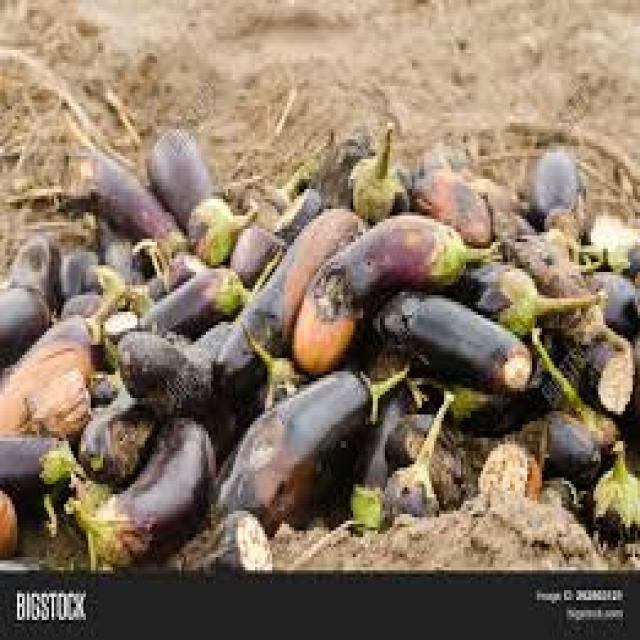organic waste: (206, 362, 407, 530), (289, 206, 493, 368), (208, 202, 363, 395), (66, 405, 214, 557), (368, 282, 532, 388), (316, 206, 500, 292), (488, 202, 601, 335), (525, 322, 618, 461), (118, 315, 218, 428), (84, 146, 186, 255), (142, 116, 226, 245), (456, 255, 598, 325), (0, 282, 115, 365), (532, 322, 630, 418), (380, 404, 478, 500), (375, 382, 444, 518), (397, 156, 493, 245), (76, 381, 157, 481), (135, 262, 240, 335), (0, 428, 76, 517), (165, 508, 268, 570), (527, 136, 586, 242), (346, 120, 412, 212), (515, 408, 598, 481), (179, 322, 262, 394), (429, 371, 525, 428), (591, 438, 638, 547), (20, 368, 88, 434), (186, 192, 255, 255), (578, 265, 638, 335), (581, 206, 638, 275), (0, 278, 51, 354), (5, 229, 59, 298), (230, 219, 290, 278), (268, 179, 322, 236), (257, 159, 309, 212), (616, 322, 638, 441), (98, 232, 150, 282), (471, 169, 522, 212), (54, 245, 100, 292), (346, 471, 385, 524), (59, 285, 100, 322), (81, 258, 127, 288), (0, 487, 17, 554), (84, 368, 122, 391), (86, 206, 113, 238), (137, 262, 157, 295), (0, 554, 37, 567)
